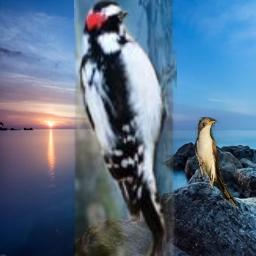Cuckoo: (195, 117, 237, 209)
Woodpecker: (74, 0, 177, 256)
